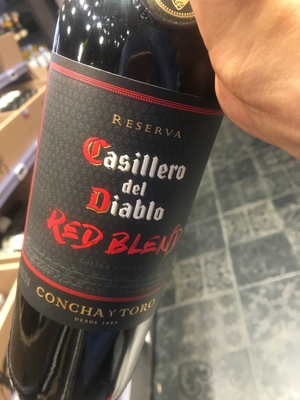casillero del diablo red blend: (15, 32, 214, 400)
